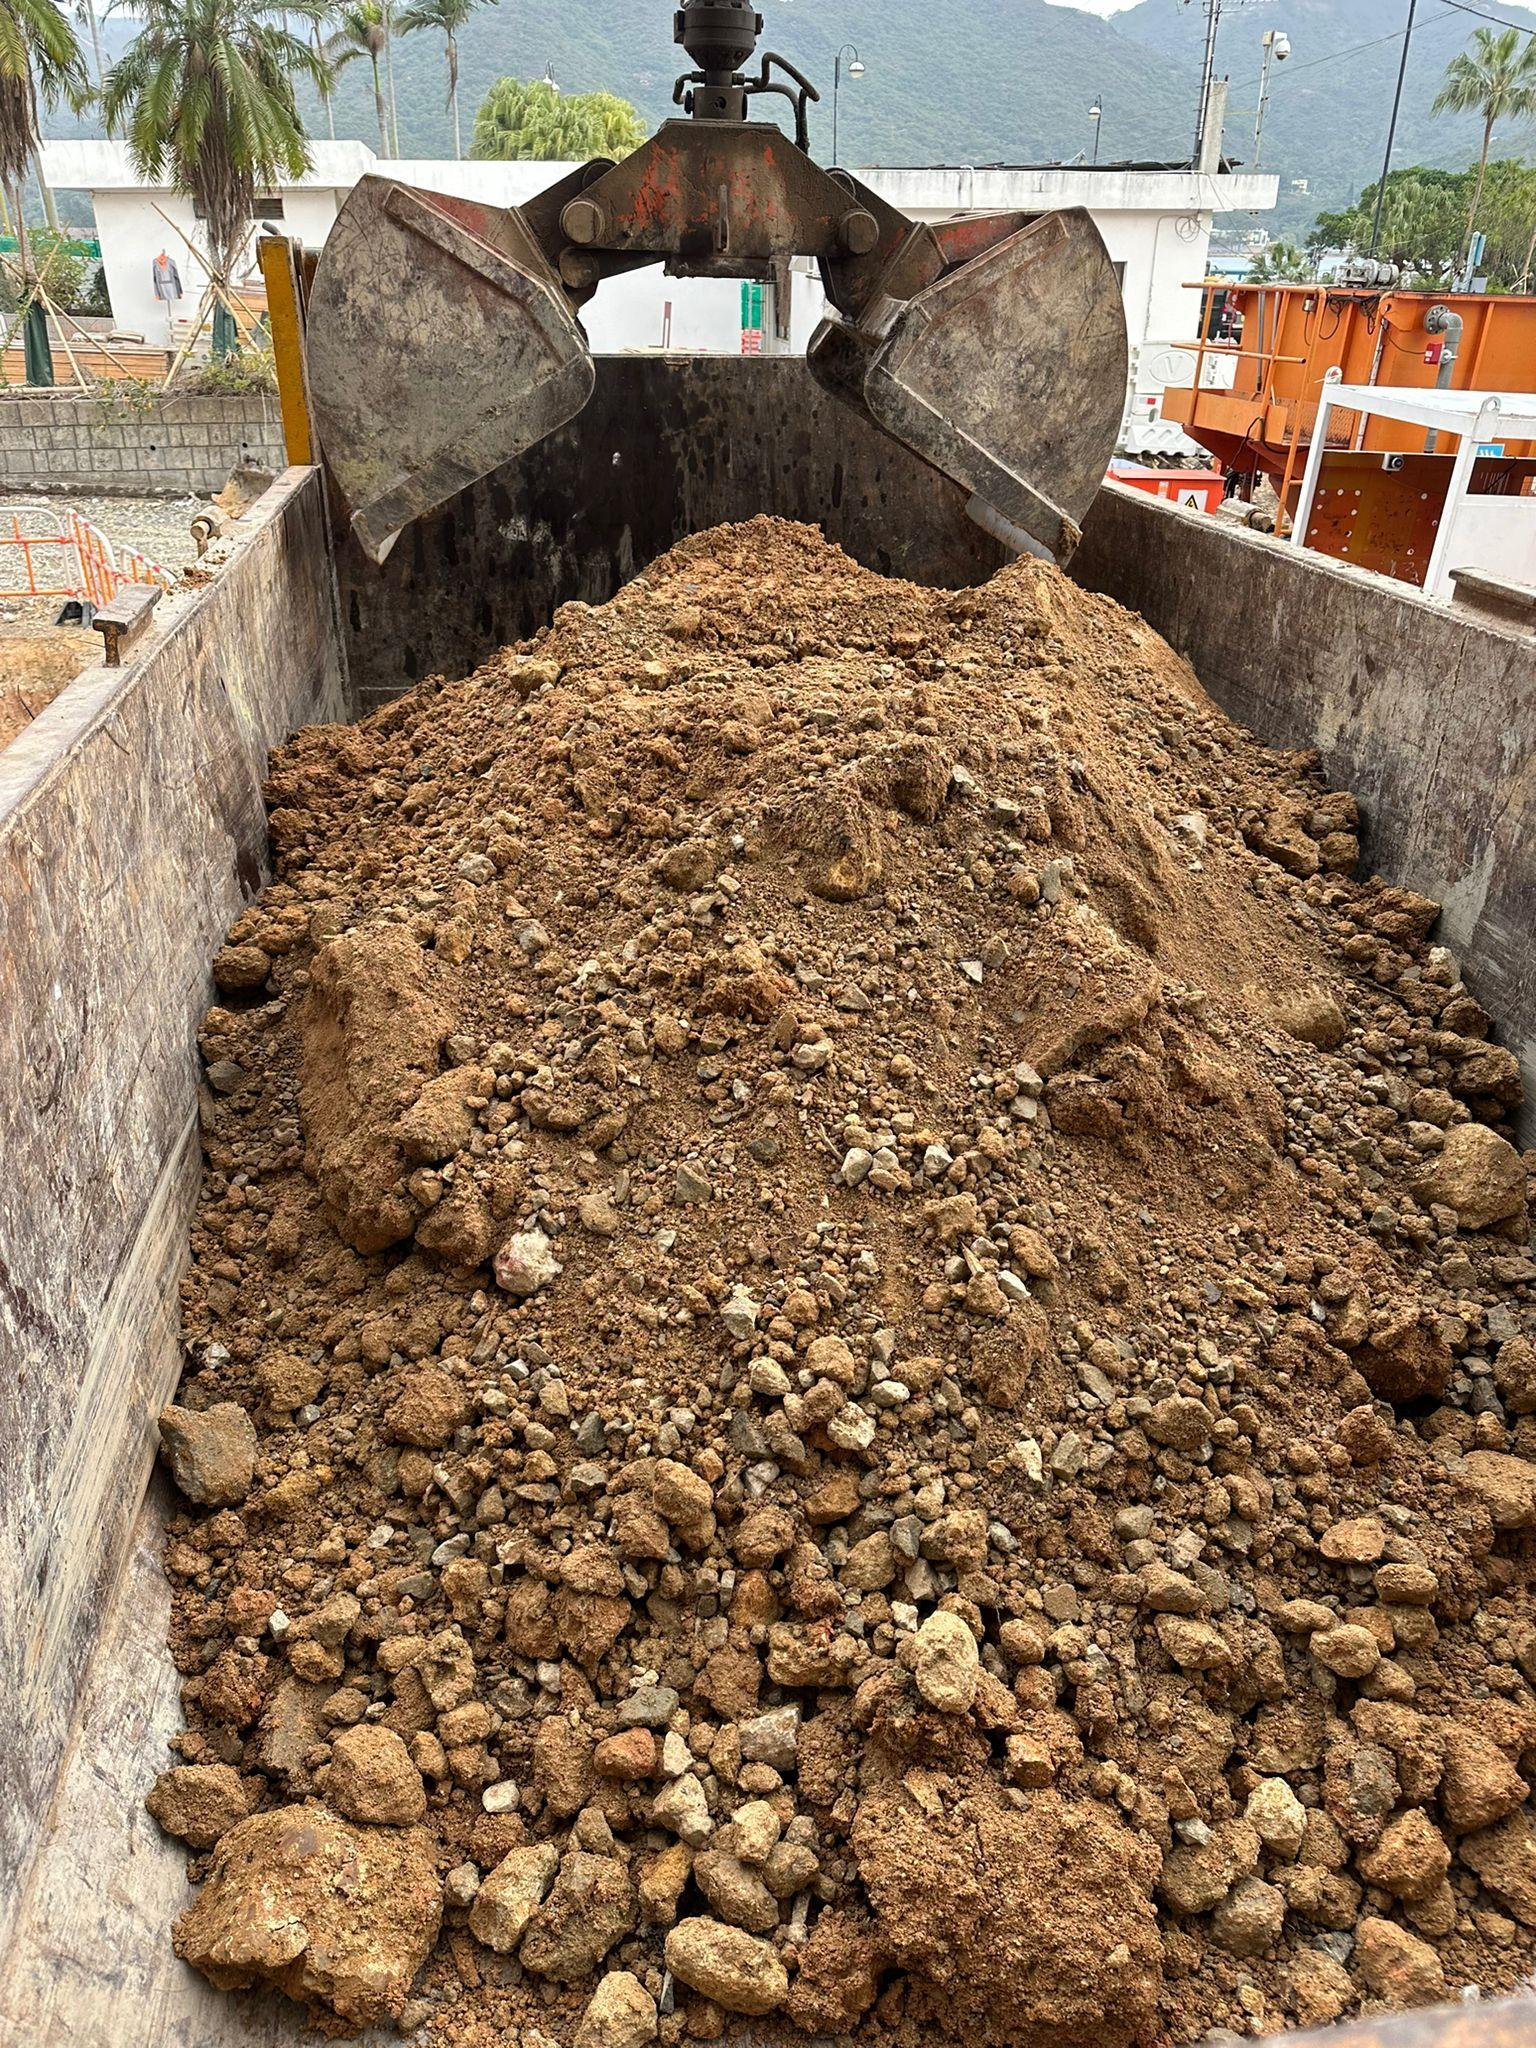wet: (216, 531, 1526, 2043)
